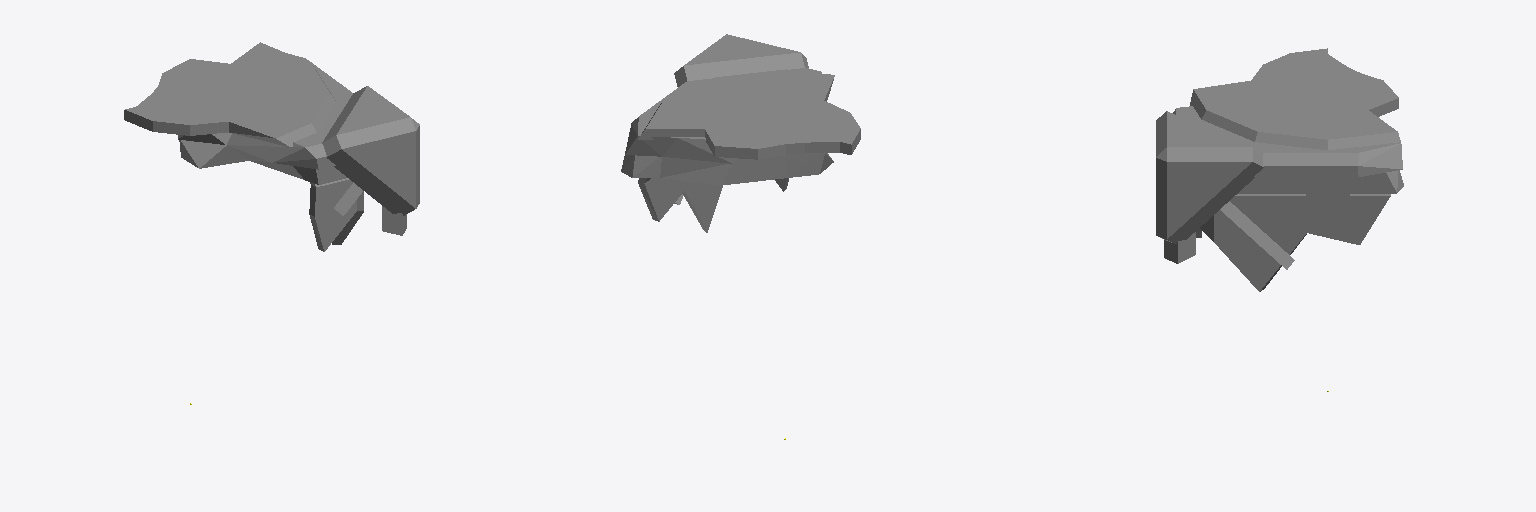
Rendered from cpz_obj_breakbox_brk_007.obj.
3 views of the same model, side by side, from view 1: azimuth 30°, elevation 25°; view 2: azimuth 150°, elevation 25°; view 3: azimuth 270°, elevation 25° (orthographic).
Parts seen in each view (by area): view 1: cpz_metal_yy_slop_cmn_dpn, ccp_metal_yy_circle_Cmn_dpn, cpz_yy1_road_cmn_dp, cpz_glass_tn1_glasstube, ccp_metal_yy_yelow_Cmn_dpn; view 2: ccp_metal_yy_circle_Cmn_dpn, cpz_metal_yy_slop_cmn_dpn, cpz_glass_tn1_glasstube, cpz_yy1_road_cmn_dp; view 3: cpz_metal_yy_slop_cmn_dpn, ccp_metal_yy_circle_Cmn_dpn, cpz_glass_tn1_glasstube, cpz_yy1_road_cmn_dp, ccp_metal_yy_yelow_Cmn_dpn, cpz_metal_st1_tank01_cmn_dpnE.
Part boxes in pixels (bbox=[...]): cpz_metal_yy_slop_cmn_dpn: bbox=[178, 53, 419, 215]; ccp_metal_yy_circle_Cmn_dpn: bbox=[125, 42, 329, 137]; cpz_yy1_road_cmn_dp: bbox=[124, 66, 406, 235]; cpz_glass_tn1_glasstube: bbox=[309, 178, 363, 251]; ccp_metal_yy_yelow_Cmn_dpn: bbox=[293, 166, 346, 184]; ccp_metal_yy_circle_Cmn_dpn: bbox=[646, 69, 860, 148]; cpz_metal_yy_slop_cmn_dpn: bbox=[625, 34, 833, 204]; cpz_glass_tn1_glasstube: bbox=[638, 178, 788, 232]; cpz_yy1_road_cmn_dp: bbox=[638, 79, 860, 204]; cpz_metal_yy_slop_cmn_dpn: bbox=[1156, 106, 1402, 243]; ccp_metal_yy_circle_Cmn_dpn: bbox=[1193, 48, 1398, 139]; cpz_glass_tn1_glasstube: bbox=[1196, 172, 1390, 291]; cpz_yy1_road_cmn_dp: bbox=[1164, 90, 1401, 269]; ccp_metal_yy_yelow_Cmn_dpn: bbox=[1238, 170, 1403, 193]; cpz_metal_st1_tank01_cmn_dpnE: bbox=[1306, 194, 1349, 219].
Bounding box in the file's own units: 51.84 × 72.07 × 51.9.